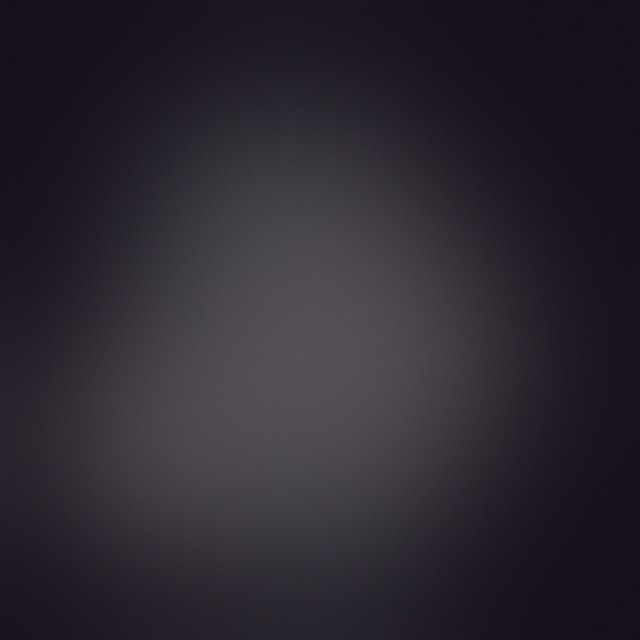smoke: (147, 235, 451, 539)
